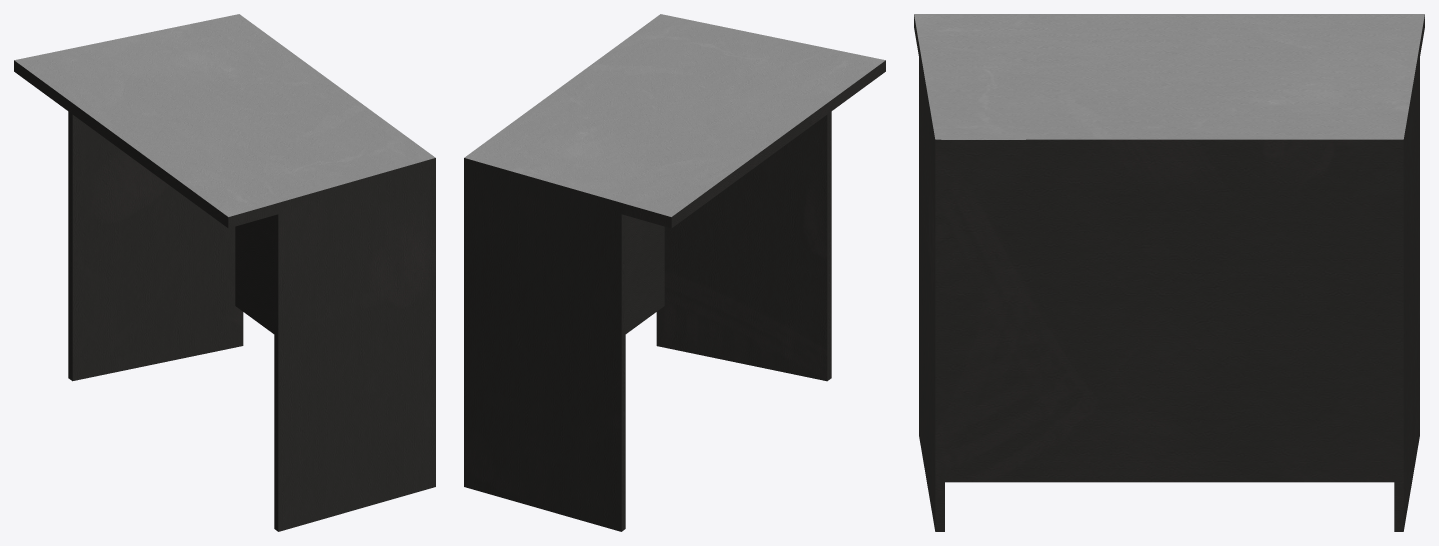
The model's file is AbgeordnetenTable.fbx.
3 renders of one model, left to right at view 1: azimuth 30°, elevation 25°; view 2: azimuth 150°, elevation 25°; view 3: azimuth 270°, elevation 25°, orthographic. The views are drawn at different scales.
Parts seen in each view (by area): view 1: Cube; view 2: Cube; view 3: Cube.
Part boxes in pixels (<box>): Cube: <box>14,14,435,531</box>; Cube: <box>464,14,885,531</box>; Cube: <box>914,14,1424,531</box>.
Size of the model in its own units: 85.61 by 72.5 by 49.87.
